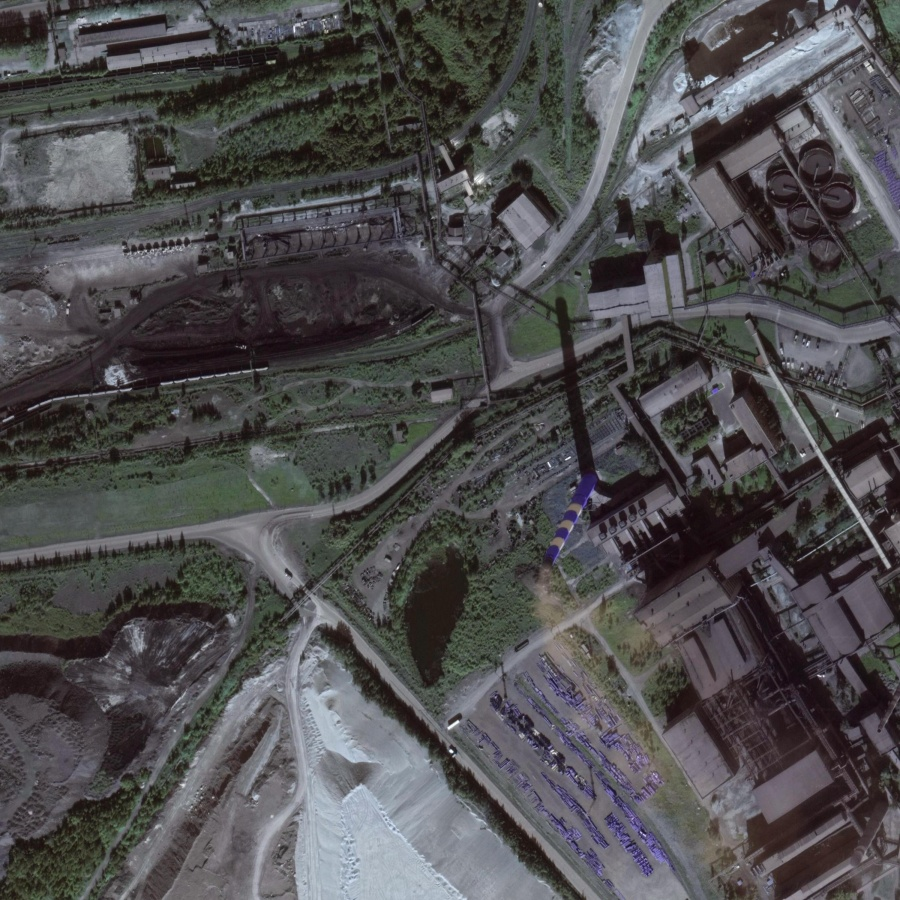PowerPlant: (516, 301, 894, 781), (3, 232, 443, 397)
